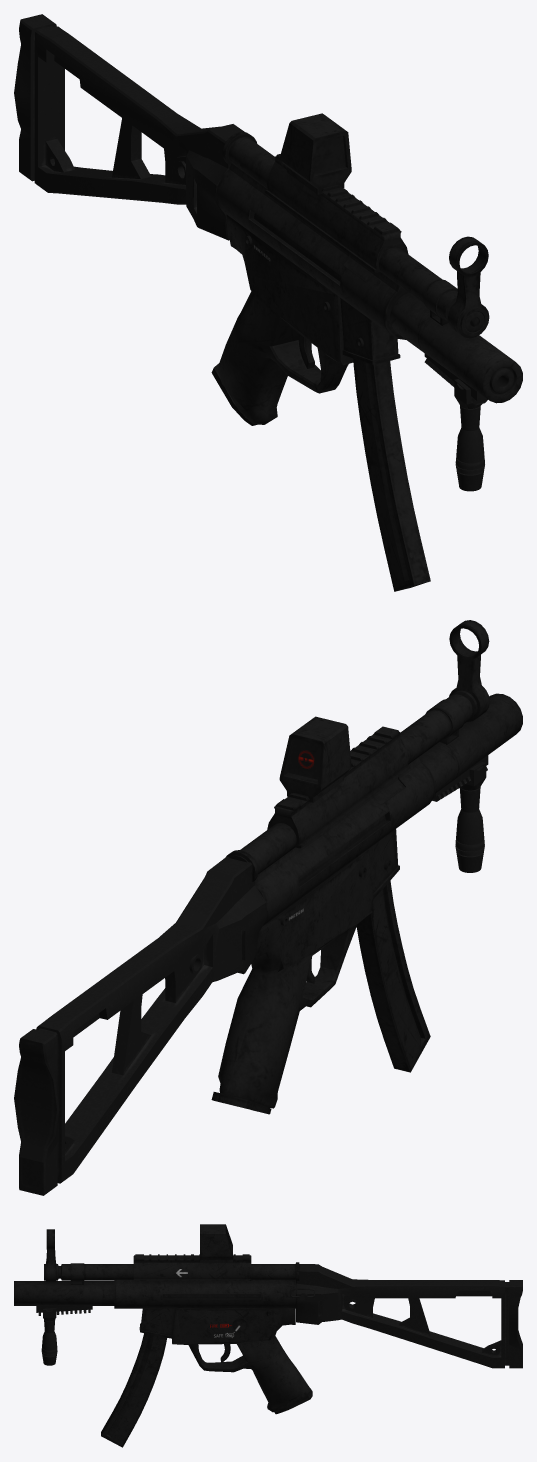
Rendered from SMG_Akrep.fbx.
The picture shows the model from 3 angles, top to bottom: view 1: azimuth 30°, elevation 25°; view 2: azimuth 150°, elevation 25°; view 3: azimuth 270°, elevation 25°; orthographic projection. The views are drawn at different scales.
Visible parts, largest first — view 1: GunMesh; view 2: GunMesh; view 3: GunMesh.
Boxes of the visible parts, x1=… form: GunMesh: x1=14, y1=14, x2=522, y2=591; GunMesh: x1=14, y1=620, x2=522, y2=1195; GunMesh: x1=14, y1=1224, x2=522, y2=1447.
Bounding box in the file's own units: 0.0466 × 0.3298 × 0.7.
1 material, 1 textured.
